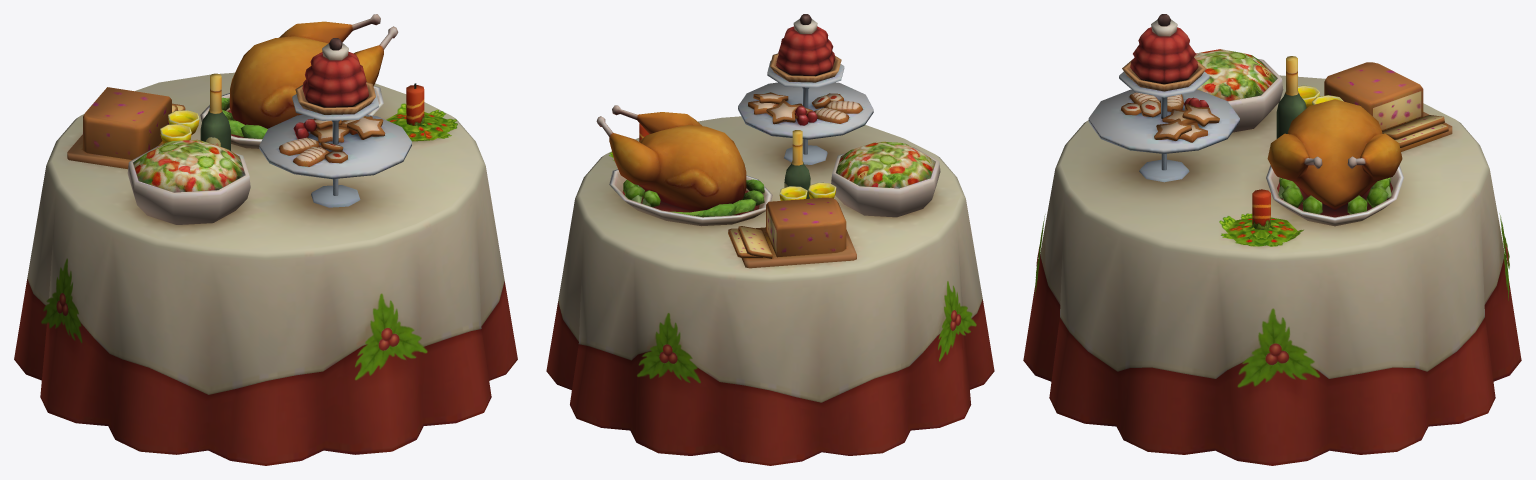
The model's file is furn_sd2016_table_001.gltf.
3 views of the same model, side by side, from view 1: azimuth 30°, elevation 25°; view 2: azimuth 150°, elevation 25°; view 3: azimuth 270°, elevation 25° (orthographic). The views are drawn at different scales.
Visible parts, largest first — view 1: sd2016_table_001; view 2: sd2016_table_001; view 3: sd2016_table_001.
Part boxes in pixels (x1,y1,x2,y2): sd2016_table_001: (14, 14, 517, 465); sd2016_table_001: (546, 14, 994, 465); sd2016_table_001: (1023, 14, 1521, 465).
Size of the model in its own units: 1.01 by 0.7853 by 1.01.
2 materials, 2 textured.
